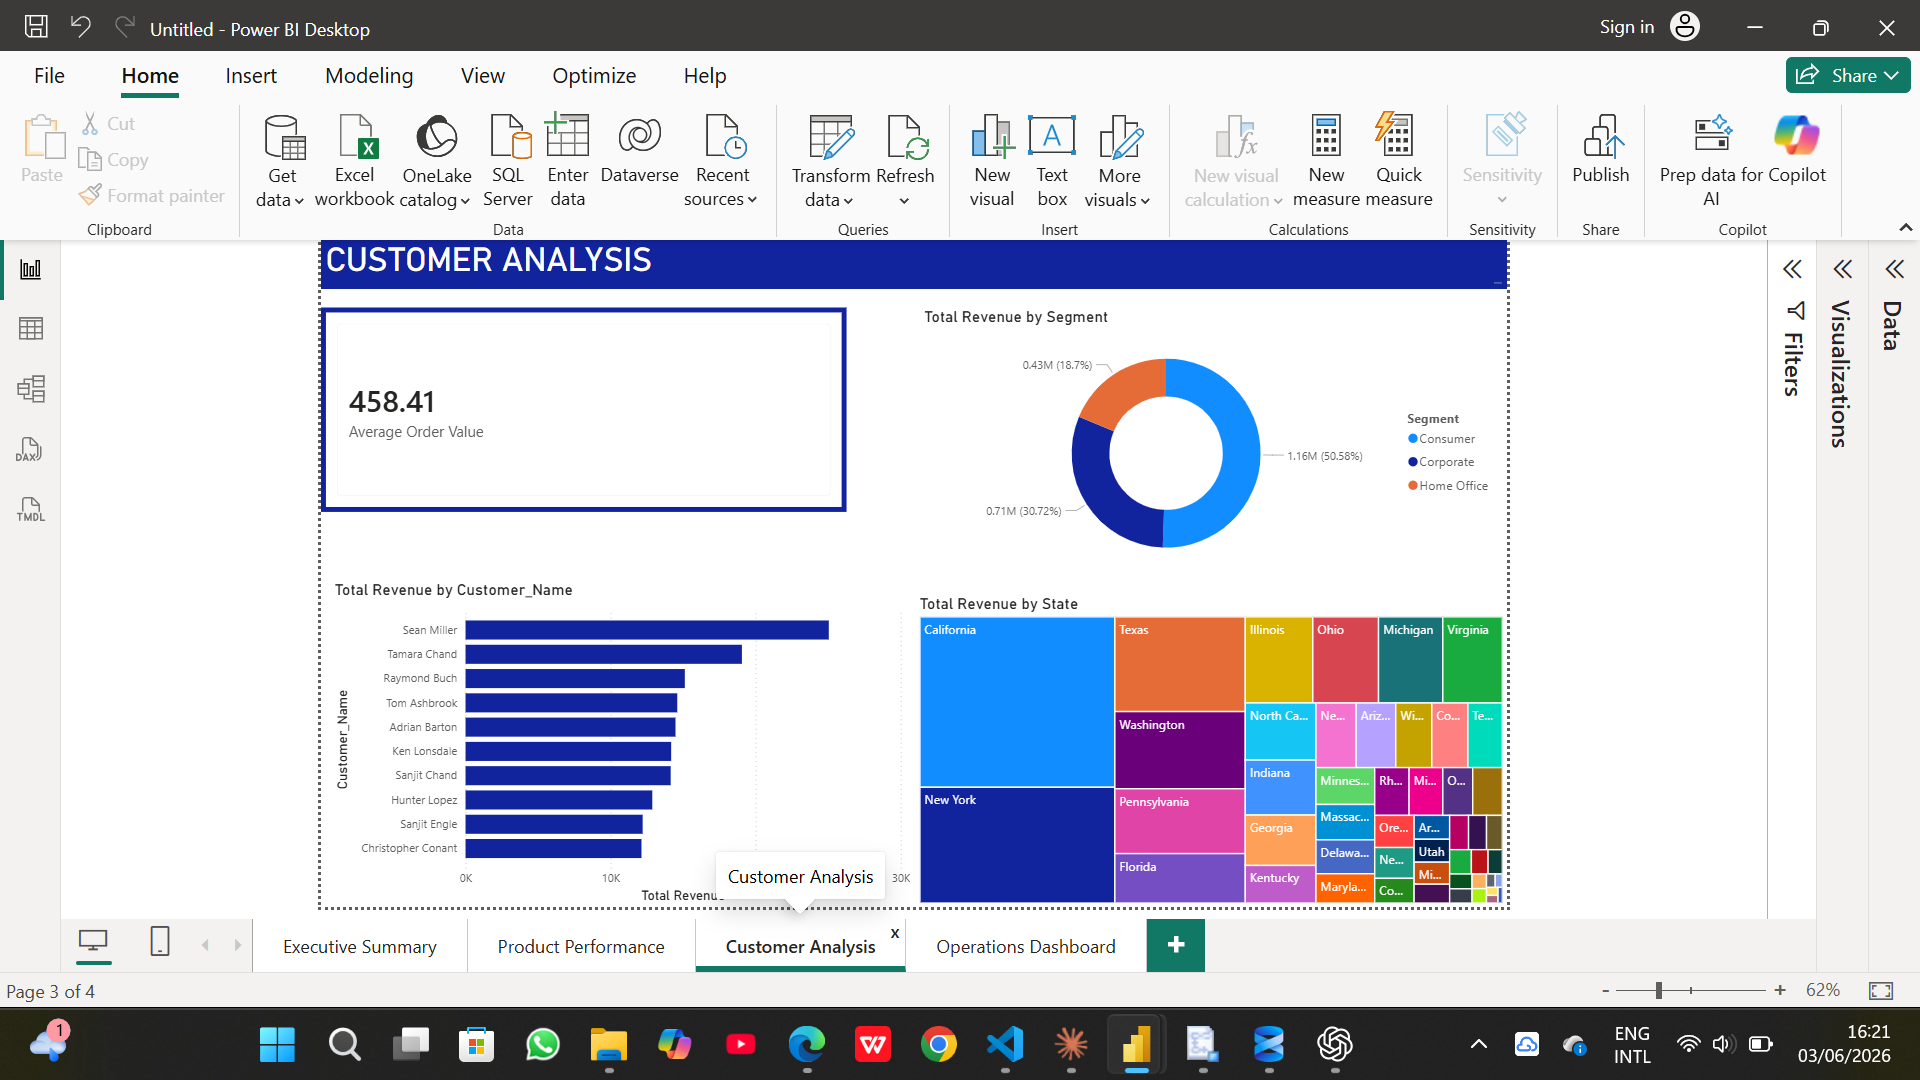

Layout of this report page (visuals, bound fields, positions):
{"tool":"powerbi","page":{"name":"Customer Analysis","canvas":[1280,720],"ordinal":2},"visuals":[{"type":"donutChart","fields":{"Category":["superstore_clean.Segment"],"Y":["superstore_clean.Total Revenue"]},"box":[646.6,73.6,628.7,294.5],"z":0},{"type":"cardVisual","fields":{"Data":["superstore_clean.Average Order Value"]},"box":[0,73.6,567.1,220.9],"z":1000},{"type":"clusteredBarChart","fields":{"Category":["superstore_clean.Customer_Name"],"Y":["superstore_clean.Total Revenue"]},"box":[9.9,368.1,630.7,352.2],"z":2000},{"type":"treemap","fields":{"Group":["superstore_clean.State"],"Values":["superstore_clean.Total Revenue"]},"box":[640.7,382,638.7,338.2],"z":3000},{"type":"textbox","title":"CUSTOMER ANALYSIS","box":[0,0,1279.3,51.7],"z":4000}]}

Visuals, with their boxes on the page's 1280x720 design canvas (x1, y1, x2, y2). These are canvas units, not pixel positions in the 1920x1080 screenshot, which may show the page scaled, cropped or inside an application window:
donutChart - superstore_clean.Segment x superstore_clean.Total Revenue: 647, 74, 1275, 368
cardVisual - superstore_clean.Average Order Value: 0, 74, 567, 294
clusteredBarChart - superstore_clean.Customer_Name x superstore_clean.Total Revenue: 10, 368, 641, 720
treemap - superstore_clean.State x superstore_clean.Total Revenue: 641, 382, 1279, 720
"CUSTOMER ANALYSIS" textbox: 0, 0, 1279, 52
